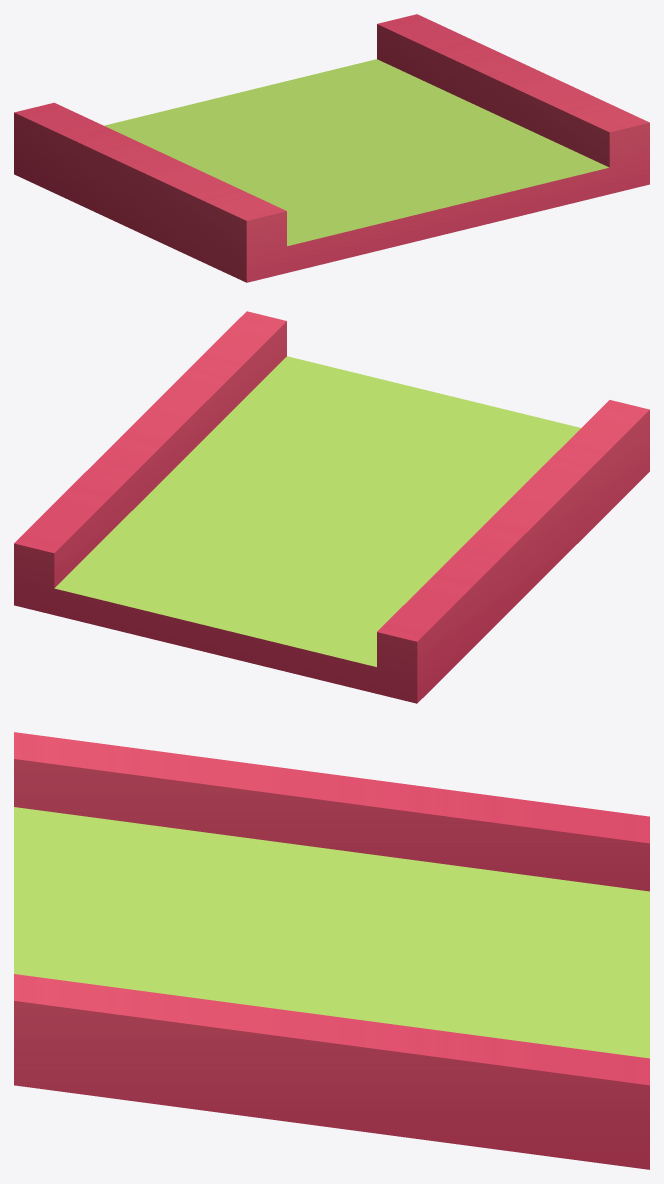
File: ramp-a.gltf
3 views of the same model, one above another, from view 1: azimuth 30°, elevation 25°; view 2: azimuth 150°, elevation 25°; view 3: azimuth 270°, elevation 25° (orthographic). The views are drawn at different scales.
Visible parts, largest first — view 1: ramp-a; view 2: ramp-a; view 3: ramp-a.
Boxes of the visible parts, <box> form: ramp-a: <box>14,14,649,282</box>; ramp-a: <box>14,311,649,703</box>; ramp-a: <box>14,732,649,1169</box>.
Bounding box in the file's own units: 0.9999 × 0.2933 × 0.9999.
1 material, 1 textured.
